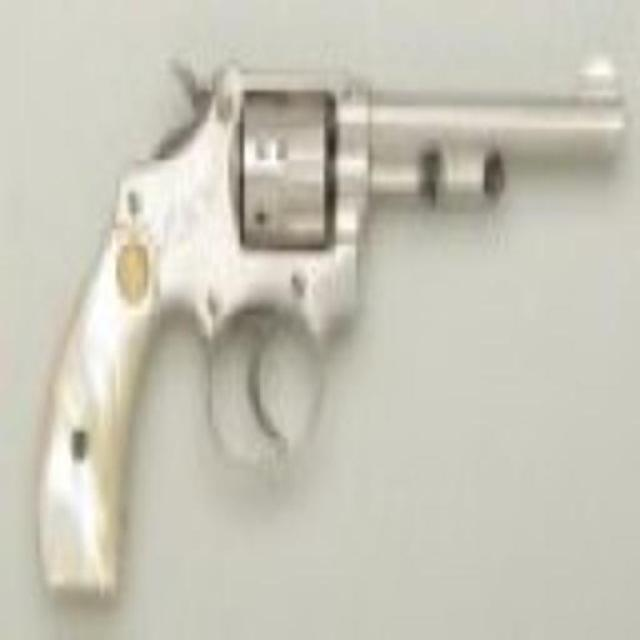pistol: (40, 47, 620, 596)
